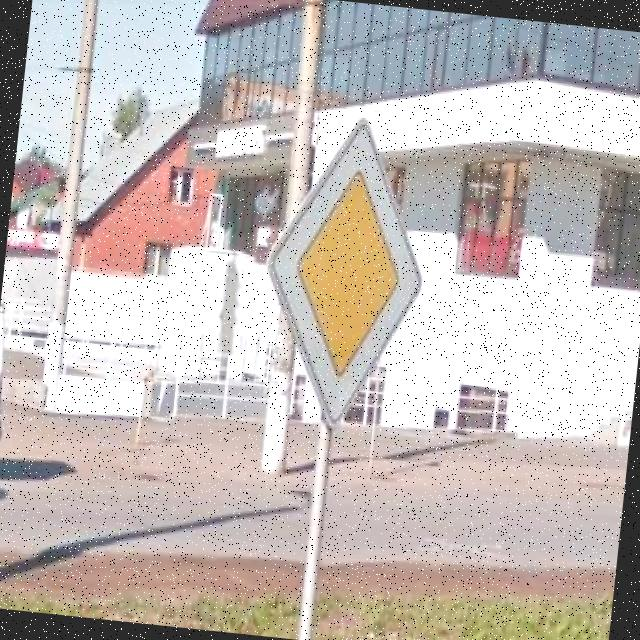Droga z pierwszenstwem: (250, 104, 438, 433)
